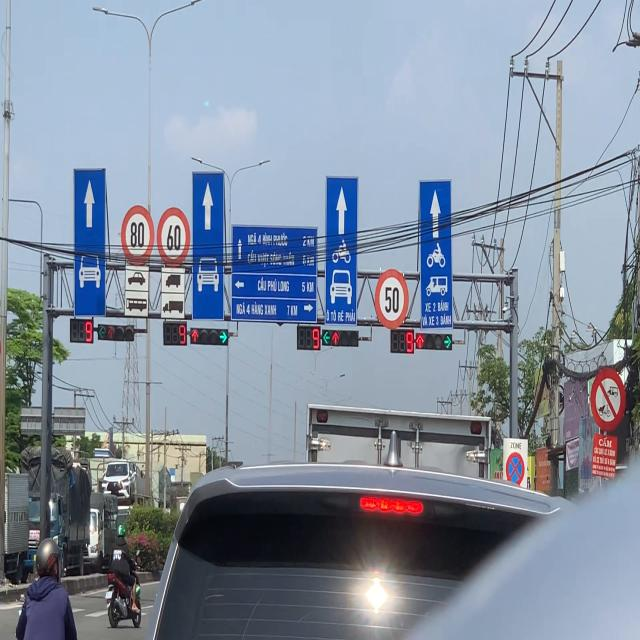Cam con lai: (590, 368, 627, 431)
Cam dung va do: (505, 451, 525, 488)
Toc do toi da: (374, 267, 408, 333), (158, 206, 191, 268), (122, 203, 154, 265)
